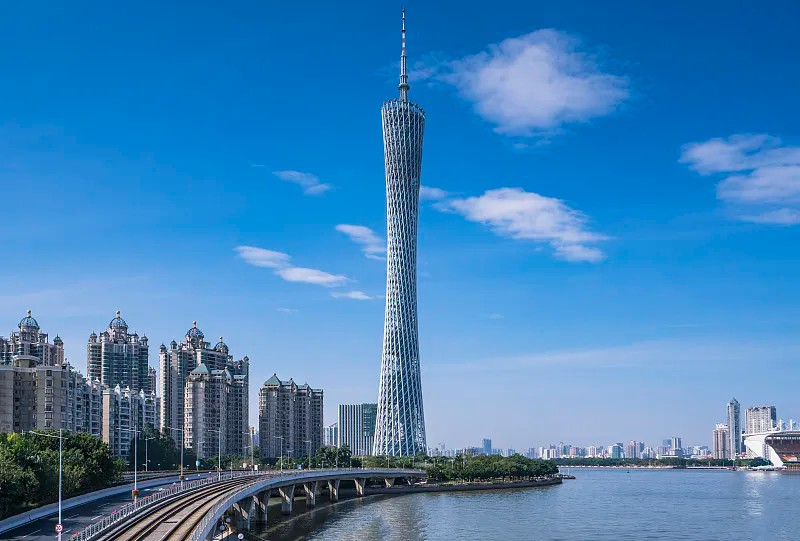Canton: (369, 8, 433, 456)
